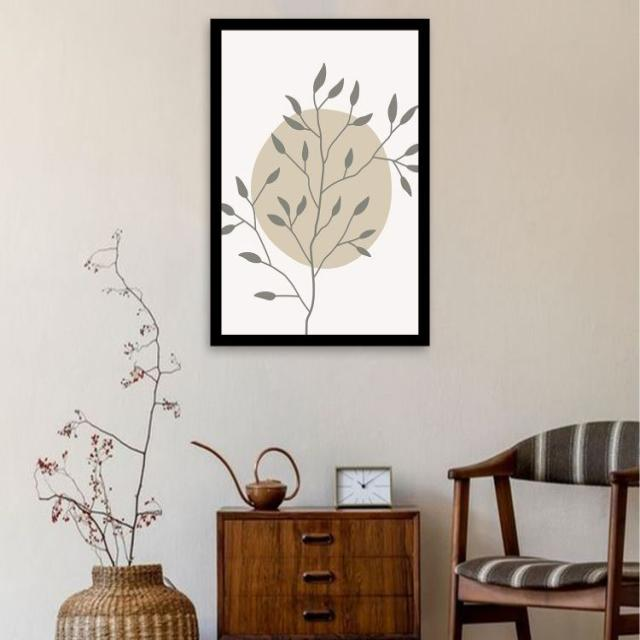painting: (209, 16, 430, 345)
